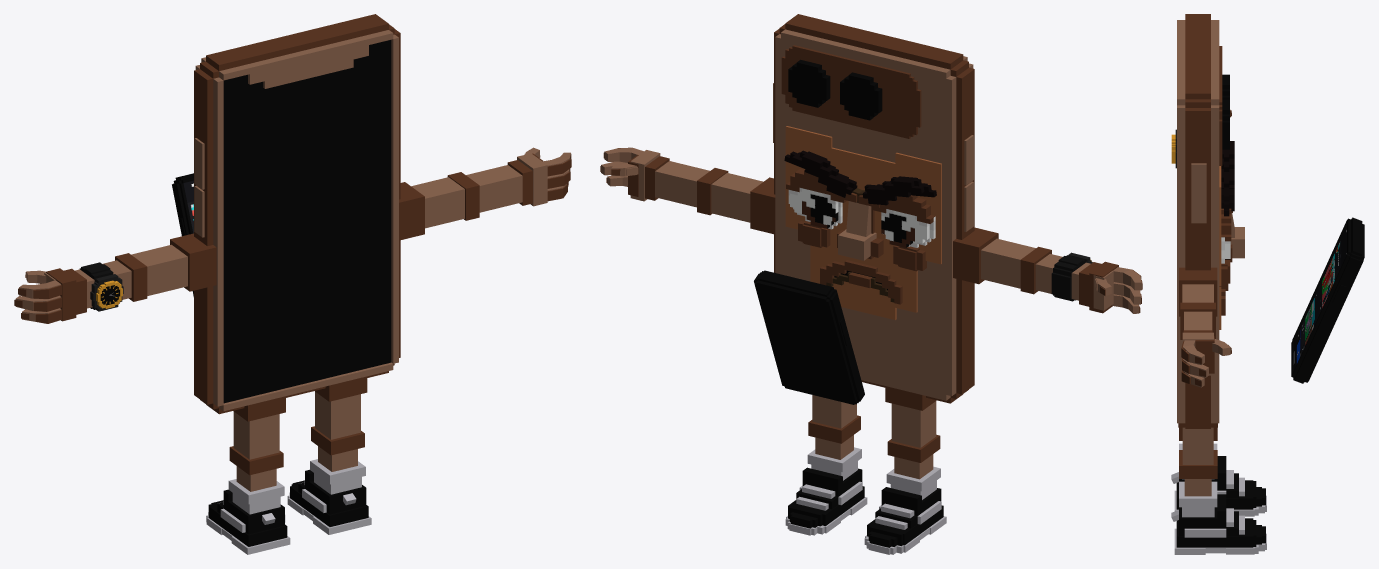
The model's file is steal_a_brainrot_celularcini_viciosini.glb.
The picture shows the model from 3 angles, left to right: view 1: azimuth 30°, elevation 25°; view 2: azimuth 150°, elevation 25°; view 3: azimuth 270°, elevation 25°; orthographic projection. The views are drawn at different scales.
Visible parts, largest first — view 1: Object_6, Object_16, Object_7, Object_9, Object_14, Object_8; view 2: Object_16, Object_7, Object_17, Object_8, Object_14, Object_9, Object_4, Object_10, Object_6, Object_18; view 3: Object_16, Object_7, Object_14, Object_8, Object_9, Object_4, Object_10, Object_6, Object_17.
Part boxes in pixels (box(x1,y1,x2,y2)): Object_6: box(223, 40, 391, 403); Object_16: box(15, 30, 570, 491); Object_7: box(14, 14, 571, 475); Object_9: box(206, 459, 371, 554); Object_14: box(100, 285, 368, 546); Object_8: box(172, 173, 193, 296); Object_16: box(600, 29, 1141, 479); Object_7: box(600, 14, 1142, 462); Object_17: box(785, 126, 941, 319); Object_8: box(754, 270, 864, 404); Object_14: box(788, 68, 943, 547); Object_9: box(785, 447, 946, 554); Object_4: box(788, 188, 935, 247); Object_10: box(784, 150, 936, 205); Object_6: box(788, 59, 882, 120); Object_18: box(1051, 255, 1087, 301); Object_16: box(1177, 20, 1244, 496); Object_7: box(1178, 14, 1232, 478); Object_14: box(1176, 456, 1265, 547); Object_8: box(1291, 217, 1364, 383); Object_9: box(1171, 443, 1266, 554); Object_4: box(1221, 226, 1346, 370); Object_10: box(1221, 141, 1234, 216); Object_6: box(1222, 74, 1229, 149); Object_17: box(1219, 166, 1221, 329).
Bounding box in the file's own units: 12.05 × 10.17 × 3.77.
15 materials, 1 textured.
